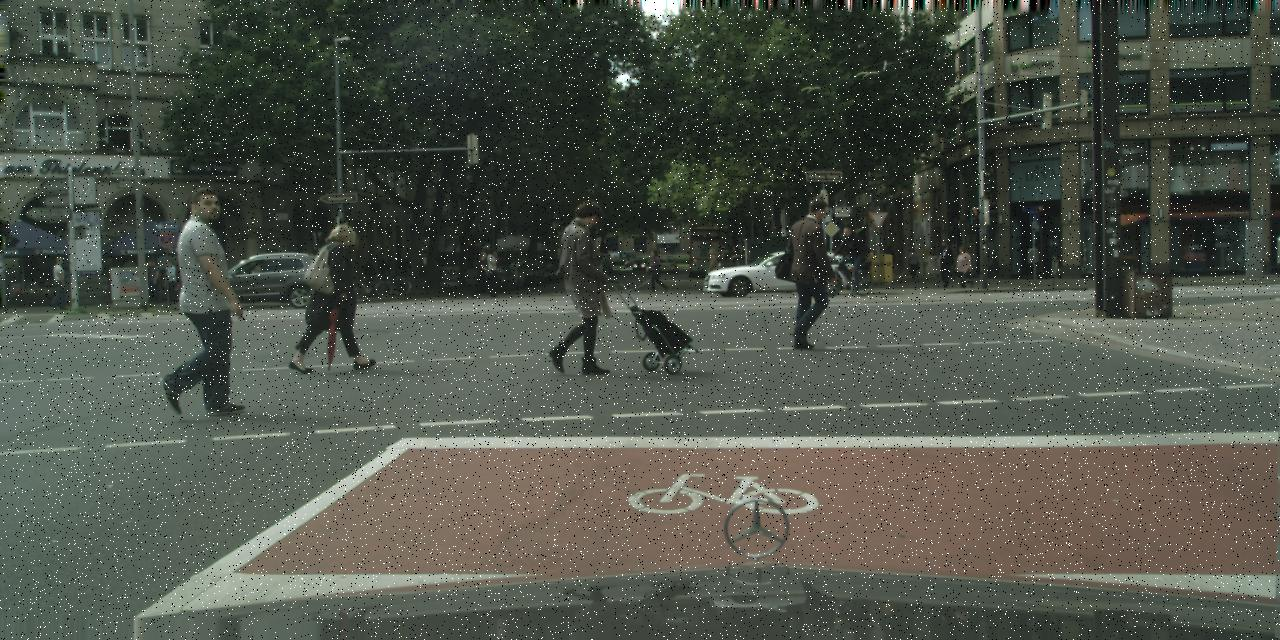ped: (155, 185, 246, 408), (549, 202, 617, 367), (779, 197, 839, 345), (305, 223, 365, 371), (838, 226, 862, 286), (49, 258, 69, 308), (483, 247, 503, 295), (473, 251, 492, 297), (936, 240, 954, 288), (954, 245, 972, 288), (647, 250, 665, 292), (121, 257, 138, 300), (147, 260, 161, 305), (168, 260, 180, 304), (882, 246, 894, 276), (907, 250, 919, 278), (377, 258, 387, 284), (363, 259, 373, 285), (160, 276, 166, 290)
